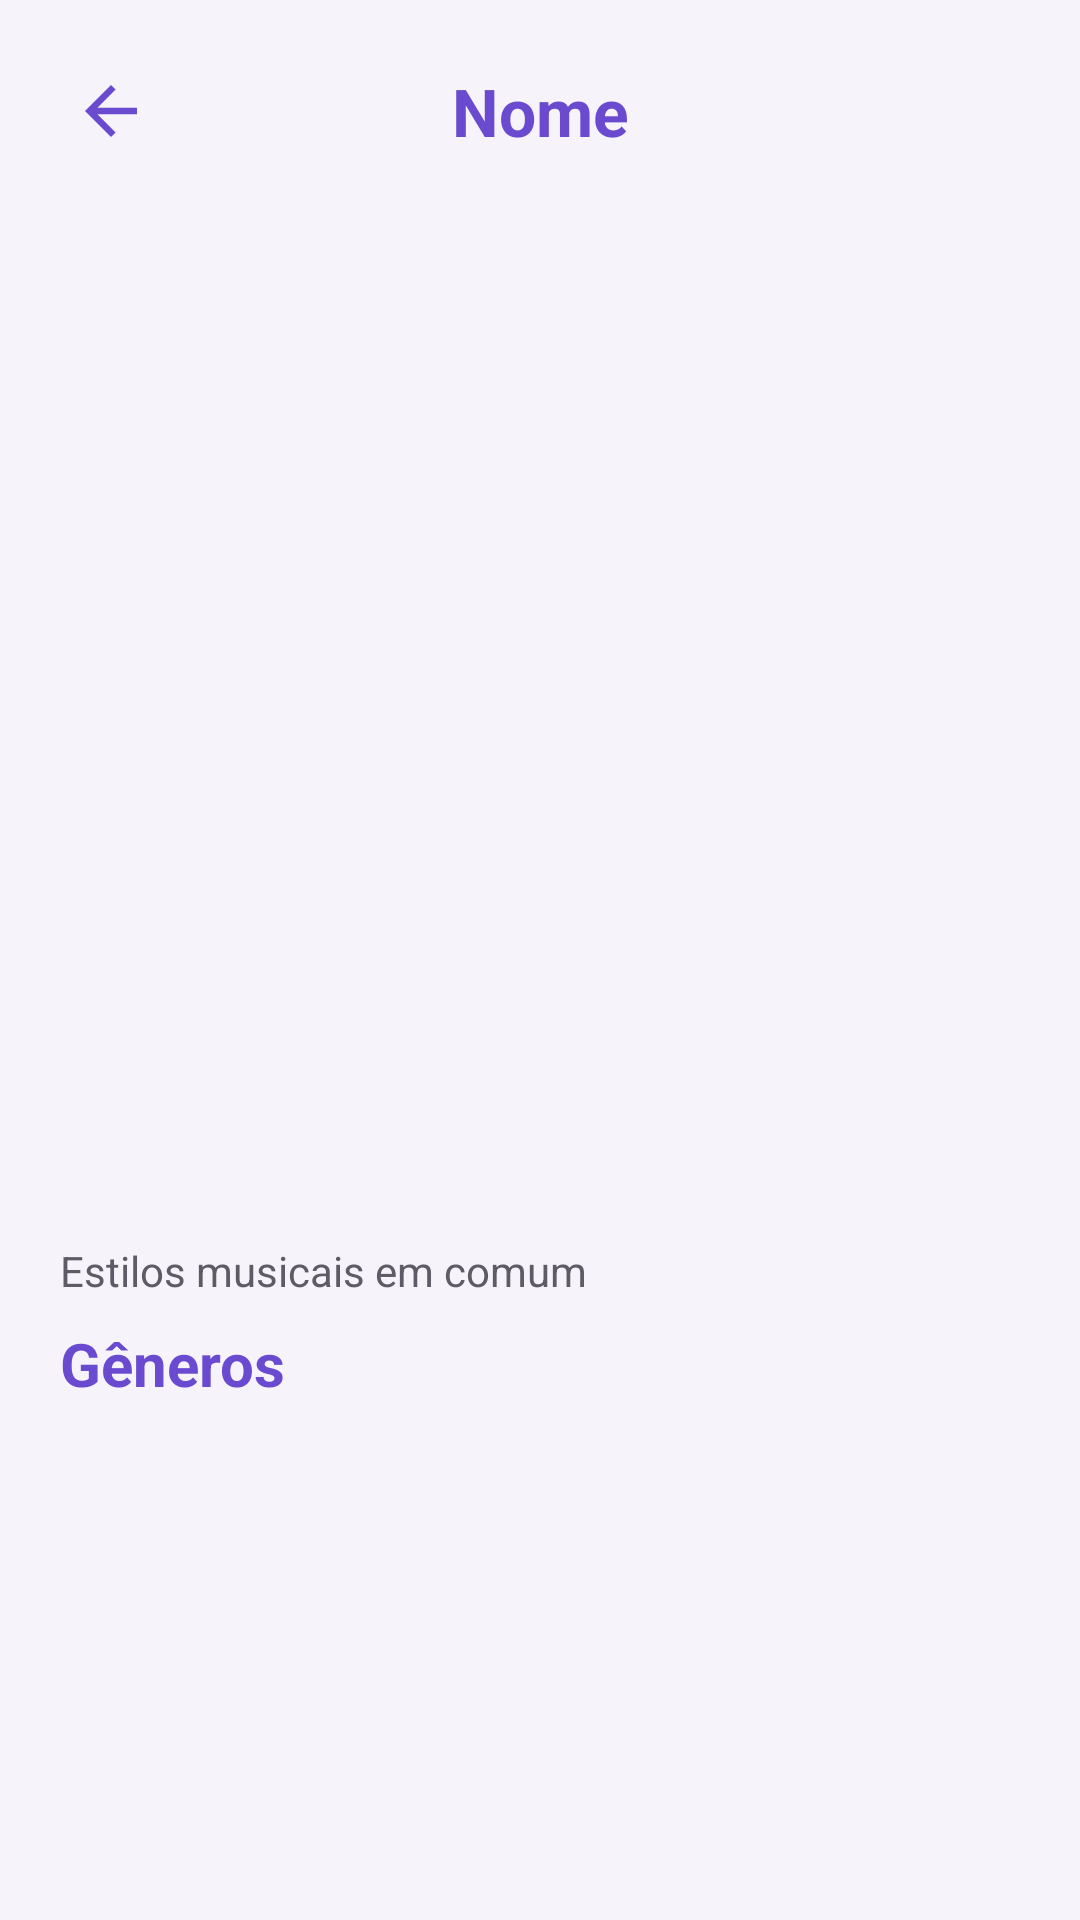

Locate icon controls on the screen. Image size 1080×1920, boxes as (x1, y1, x2, y2).
back: (85, 85, 137, 137)
